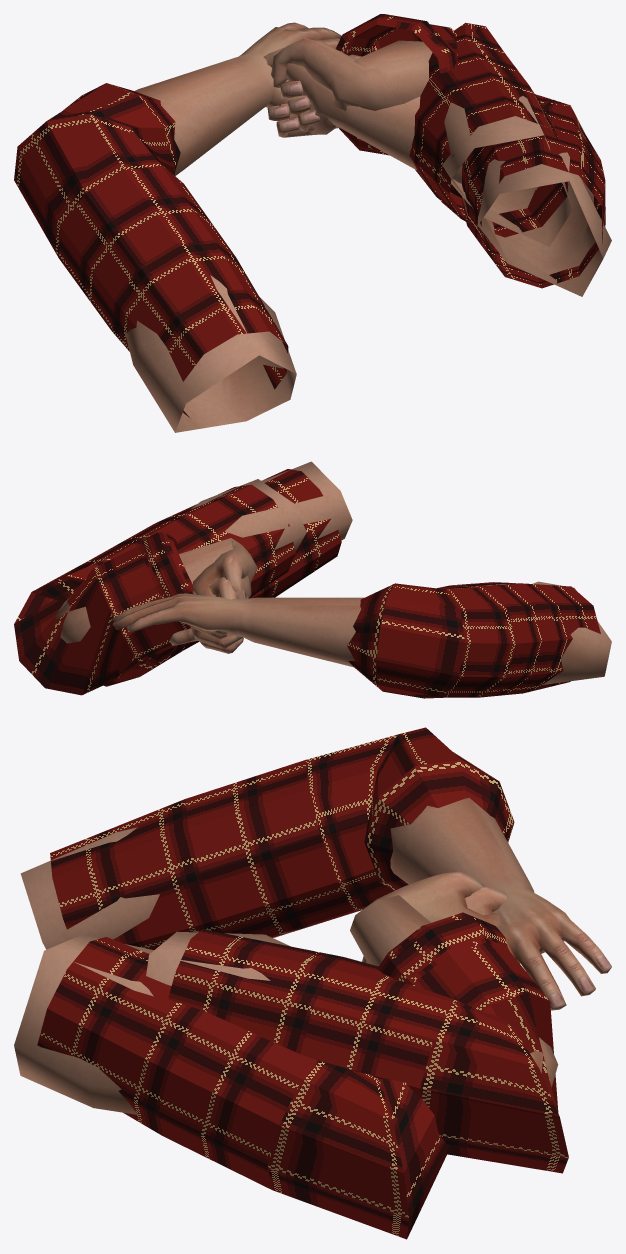
Rendered from arms.glb.
3 renders of one model, top to bottom at view 1: azimuth 30°, elevation 25°; view 2: azimuth 150°, elevation 25°; view 3: azimuth 270°, elevation 25°, orthographic. The views are drawn at different scales.
Parts seen in each view (by area): view 1: Arm_L, Arm_R_Shotgun, Arm_R; view 2: Arm_L, Arm_R_Shotgun, Arm_R; view 3: Arm_L, Arm_R_Shotgun, Arm_R.
Part boxes in pixels (left/top/right/bottom): Arm_L: left=14, top=22, right=361, bottom=432; Arm_R_Shotgun: left=271, top=14, right=572, bottom=246; Arm_R: left=263, top=47, right=611, bottom=296; Arm_L: left=111, top=581, right=611, bottom=698; Arm_R_Shotgun: left=14, top=479, right=306, bottom=695; Arm_R: left=103, top=461, right=352, bottom=686; Arm_L: left=20, top=727, right=611, bottom=1010; Arm_R_Shotgun: left=146, top=871, right=568, bottom=1173; Arm_R: left=14, top=886, right=506, bottom=1239.
Bounding box in the file's own units: 0.6482 × 0.2492 × 0.5251.
Materials: 2 (2 with a texture image).
